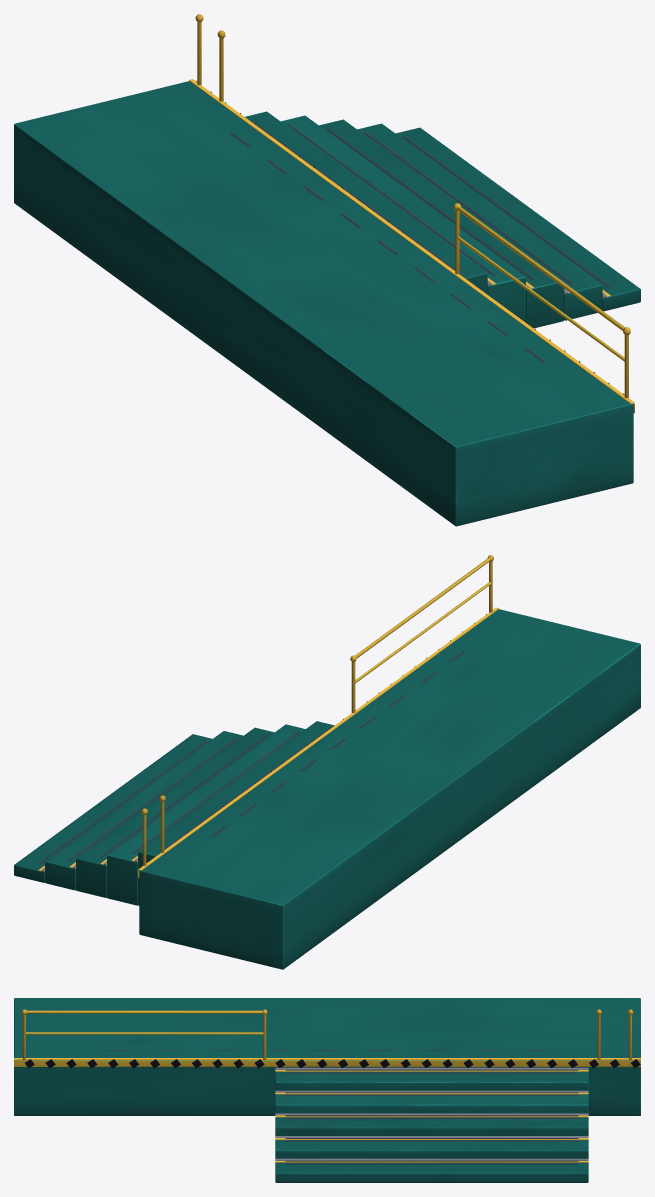
Rendered from SM_Stage4_EntryLanding.fbx.
The picture shows the model from 3 angles, top to bottom: view 1: azimuth 30°, elevation 25°; view 2: azimuth 150°, elevation 25°; view 3: azimuth 270°, elevation 25°; orthographic projection. The views are drawn at different scales.
Parts seen in each view (by area): view 1: SM_Stage4_EntryLanding; view 2: SM_Stage4_EntryLanding; view 3: SM_Stage4_EntryLanding.
Boxes of the visible parts, box(x1,y1,x2,y2) form: SM_Stage4_EntryLanding: box(14, 14, 640, 526); SM_Stage4_EntryLanding: box(14, 555, 640, 969); SM_Stage4_EntryLanding: box(14, 998, 640, 1182).
Bounding box in the file's own units: 580 × 227 × 1200.
